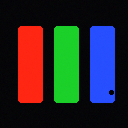0 point: (109, 90, 113, 94)
